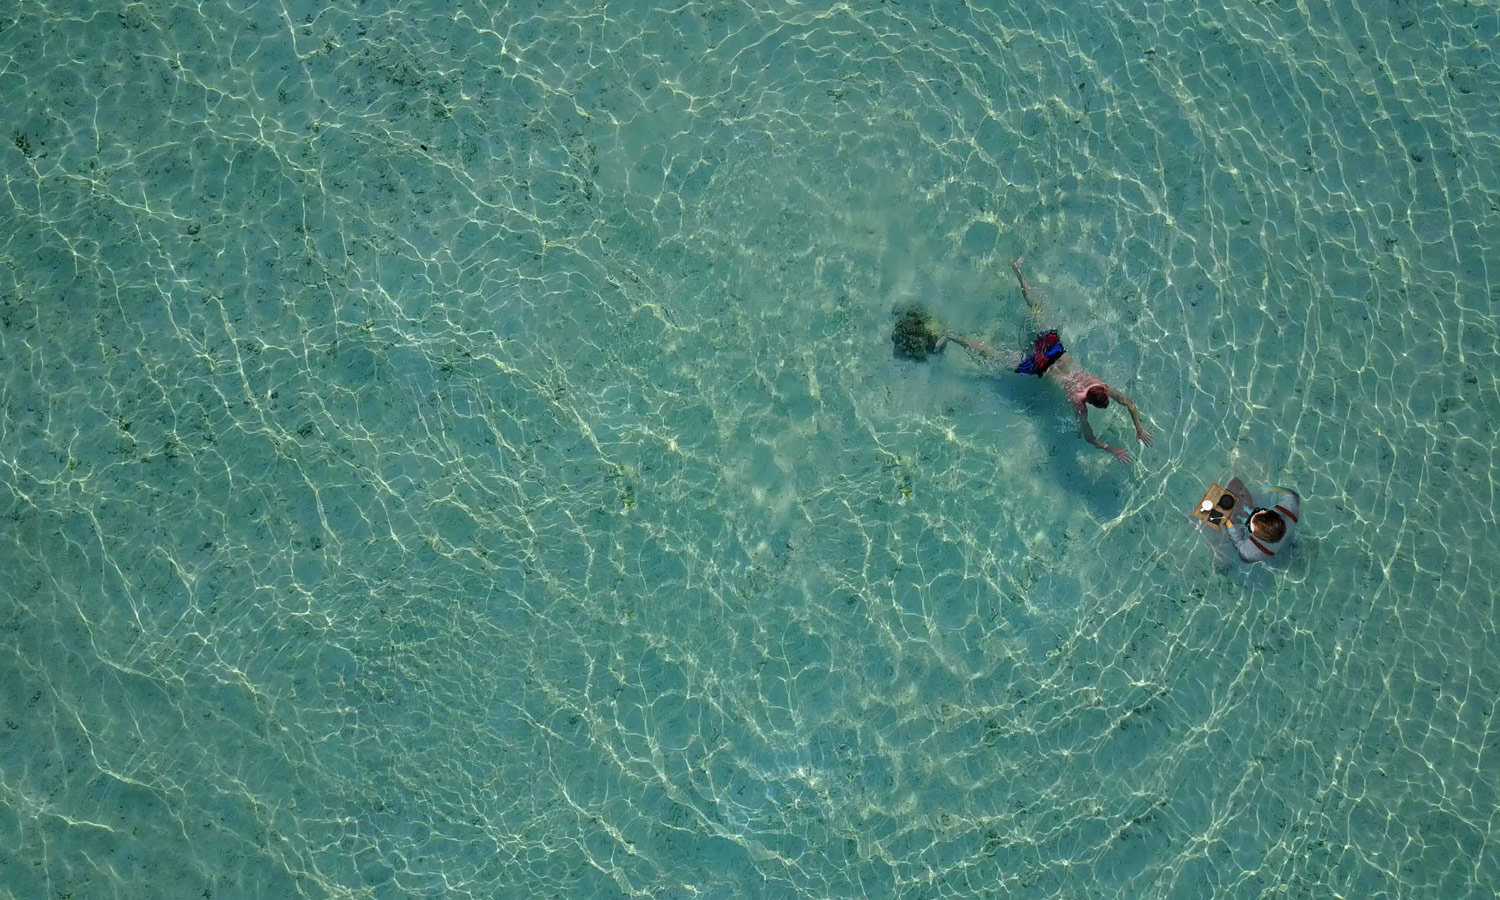people: (932, 254, 1156, 466), (1222, 483, 1299, 568)
